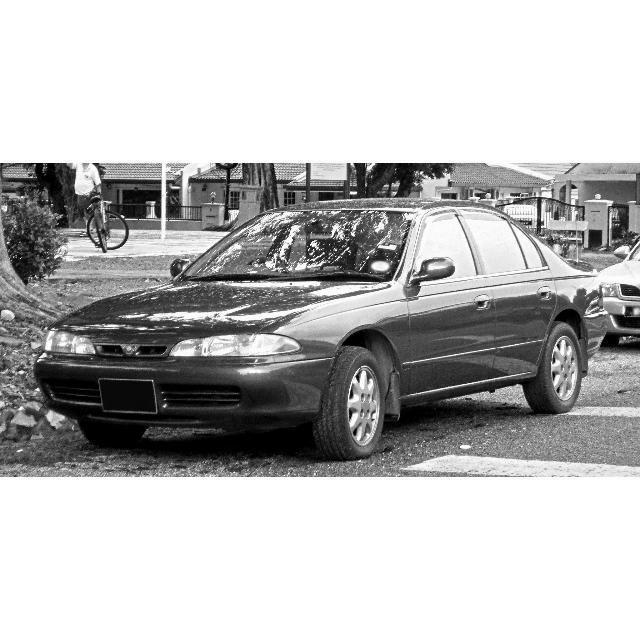bonnet-dent: (125, 282, 338, 323)
